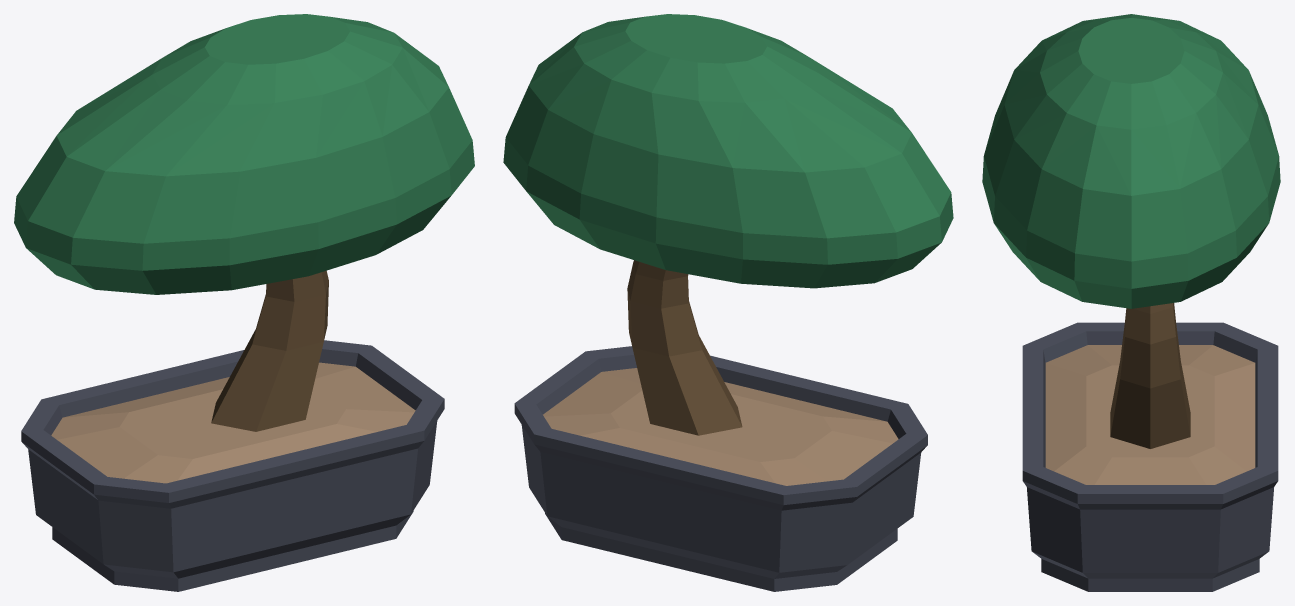
The model's file is Asian_Prop_Pot_Plant_Bonsai_01.FBX.
3 renders of one model, left to right at view 1: azimuth 30°, elevation 25°; view 2: azimuth 150°, elevation 25°; view 3: azimuth 270°, elevation 25°, orthographic. The views are drawn at different scales.
Visible parts, largest first — view 1: Asian_Prop_Pot_Plant_Bonsai_01; view 2: Asian_Prop_Pot_Plant_Bonsai_01; view 3: Asian_Prop_Pot_Plant_Bonsai_01.
Boxes of the visible parts, <box> form: Asian_Prop_Pot_Plant_Bonsai_01: <box>14,14,474,591</box>; Asian_Prop_Pot_Plant_Bonsai_01: <box>503,14,953,591</box>; Asian_Prop_Pot_Plant_Bonsai_01: <box>982,14,1280,591</box>.
Bounding box in the file's own units: 447 × 473 × 264.
